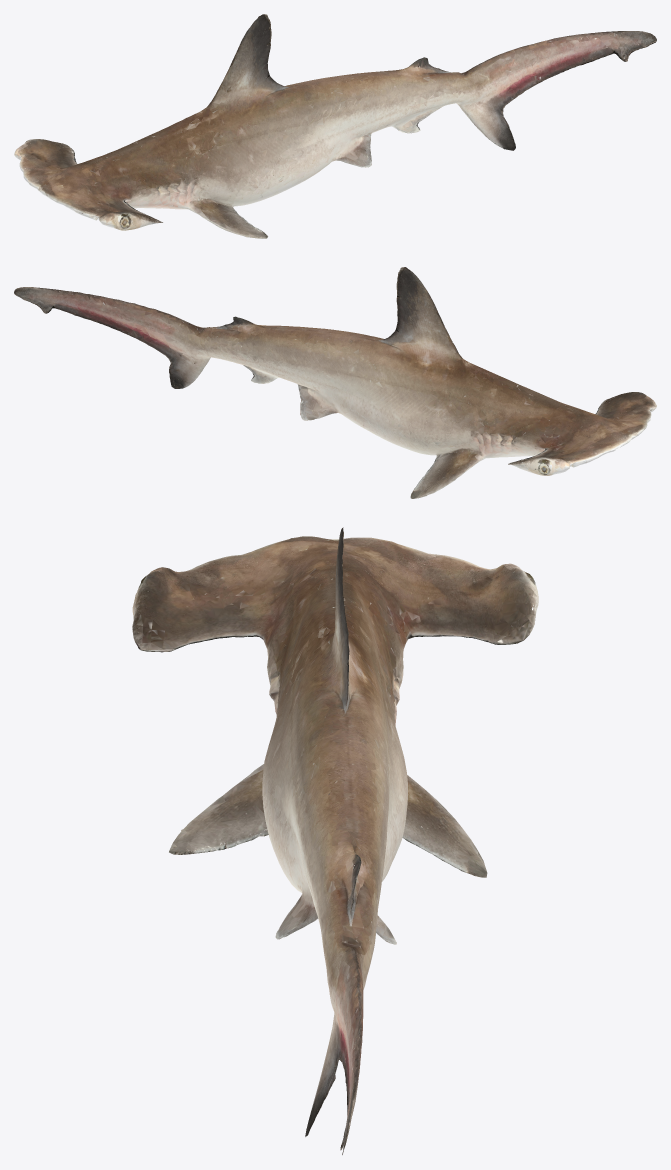
The model's file is shark.glb.
3 views of the same model, one above another, from view 1: azimuth 30°, elevation 25°; view 2: azimuth 150°, elevation 25°; view 3: azimuth 270°, elevation 25° (orthographic). The views are drawn at different scales.
Visible parts, largest first — view 1: body; view 2: body; view 3: body.
Part boxes in pixels (x1,y1,x2,y2): body: (14, 14, 656, 238); body: (14, 267, 656, 498); body: (132, 527, 538, 1154).
Bounding box in the file's own units: 0.9999 × 0.3011 × 0.2845.
2 materials, 2 textured.
